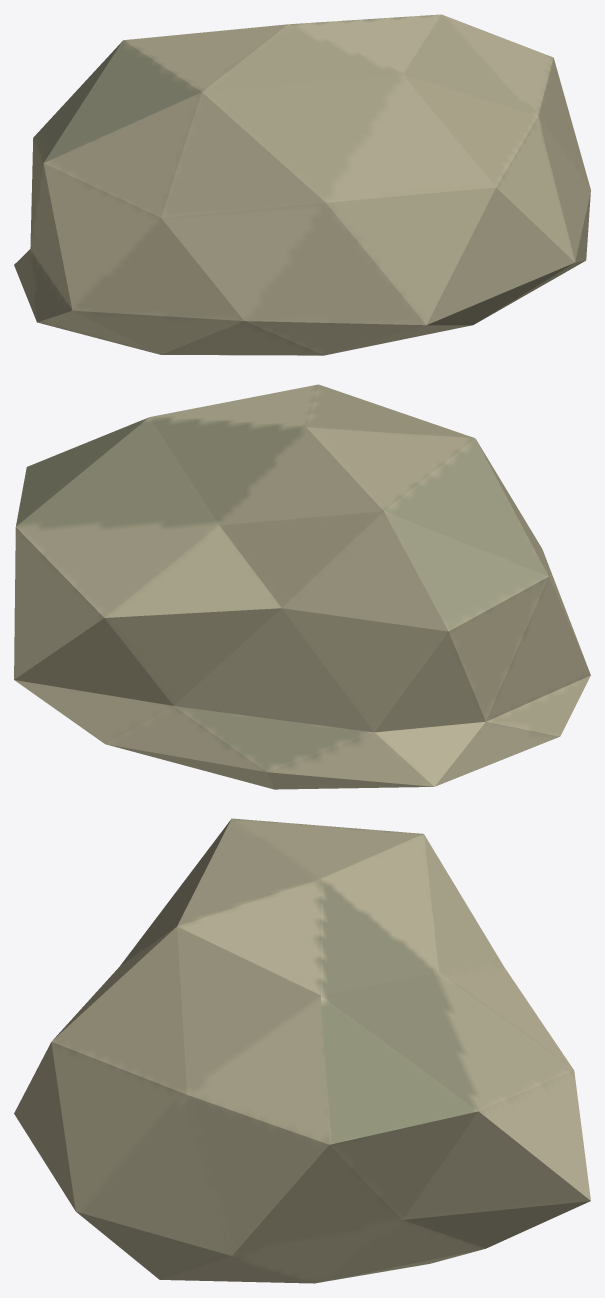
Rendered from SM_Rock_Small.fbx.
3 renders of one model, top to bottom at view 1: azimuth 30°, elevation 25°; view 2: azimuth 150°, elevation 25°; view 3: azimuth 270°, elevation 25°, orthographic. The views are drawn at different scales.
Parts seen in each view (by area): view 1: SM_Rock_Small_LOD0; view 2: SM_Rock_Small_LOD0; view 3: SM_Rock_Small_LOD0.
Boxes of the visible parts, left/top/right/bottom form: SM_Rock_Small_LOD0: left=14, top=14, right=590, bottom=355; SM_Rock_Small_LOD0: left=14, top=384, right=590, bottom=789; SM_Rock_Small_LOD0: left=14, top=818, right=590, bottom=1283.
Size of what is drawn, in the model's own units: 0.4297 by 0.2272 by 0.3624.
